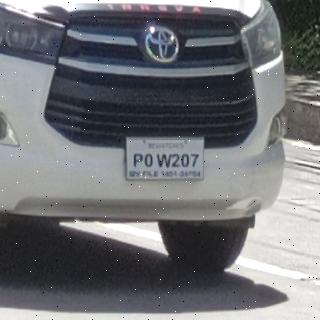license: (128, 139, 205, 181)
